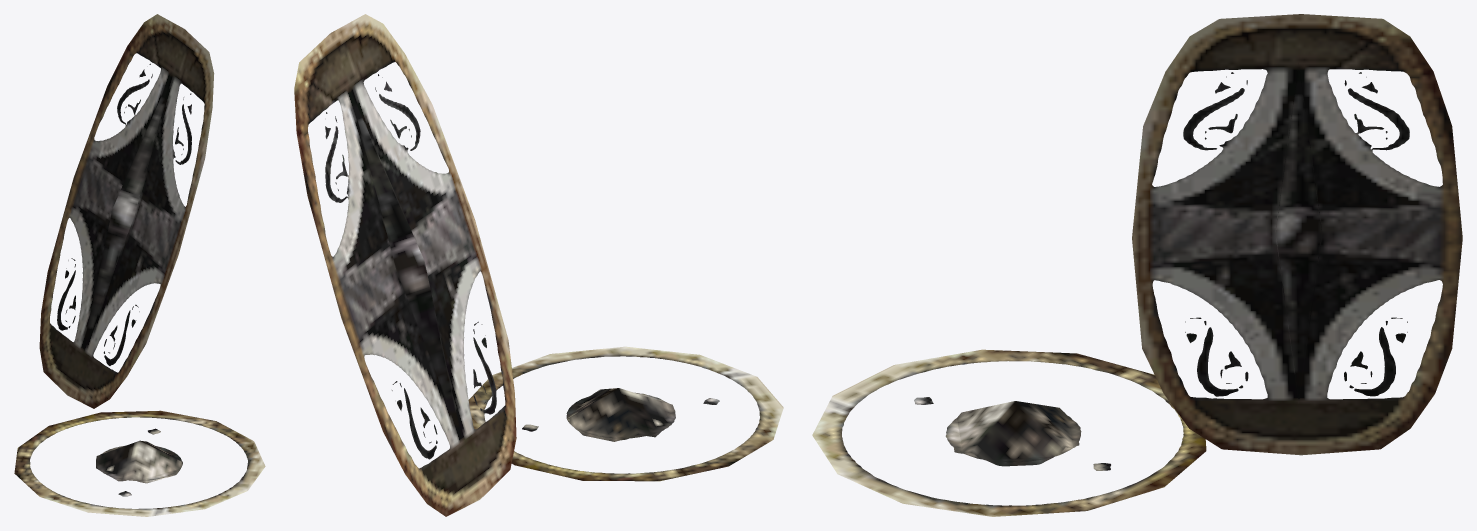
The model's file is iber_temple_b.dae.
The picture shows the model from 3 angles, left to right: view 1: azimuth 30°, elevation 25°; view 2: azimuth 150°, elevation 25°; view 3: azimuth 270°, elevation 25°; orthographic projection. The views are drawn at different scales.
Visible parts, largest first — view 1: Cylinder21; view 2: Cylinder21; view 3: Cylinder21.
Part boxes in pixels (<box>): Cylinder21: <box>14,14,265,516</box>; Cylinder21: <box>294,14,783,516</box>; Cylinder21: <box>812,14,1462,516</box>.
Size of the model in its own units: 1.92 by 2.79 by 2.51.
